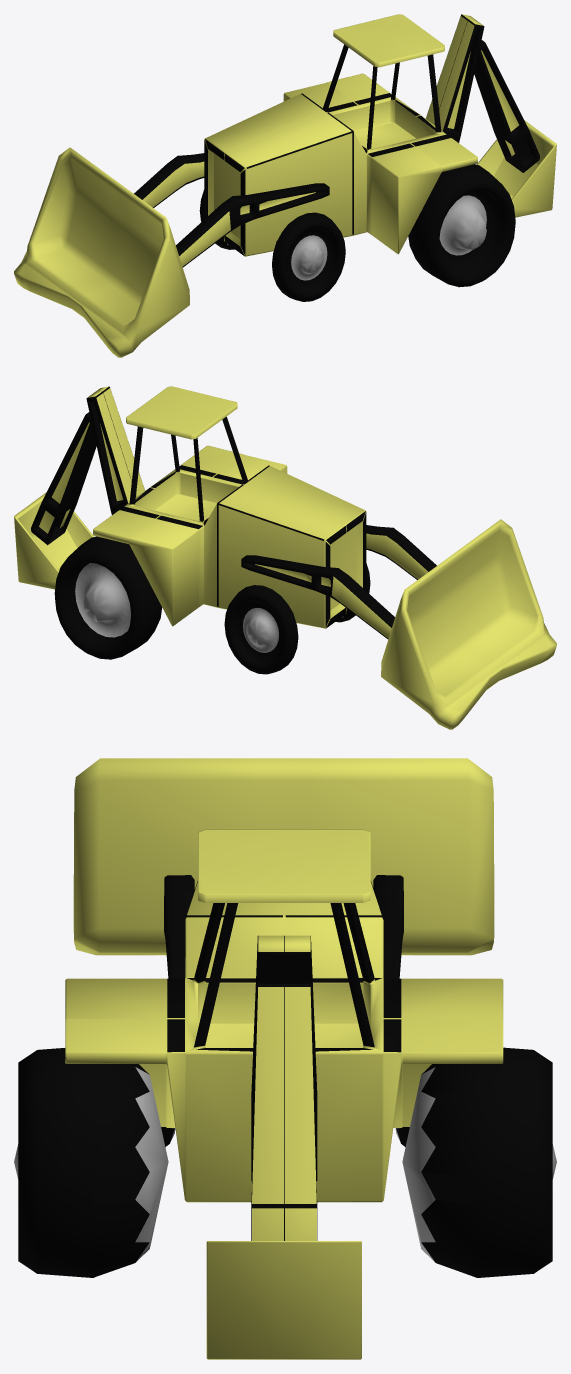
File: Tractor1.fbx
The picture shows the model from 3 angles, top to bottom: view 1: azimuth 30°, elevation 25°; view 2: azimuth 150°, elevation 25°; view 3: azimuth 270°, elevation 25°; orthographic projection. The views are drawn at different scales.
Parts seen in each view (by area): view 1: tractor:Box16, tractor:pa, tractor:Cylinder53, tractor:Cylinder11; view 2: tractor:Box16, tractor:pa, tractor:Cylinder54, tractor:Cylinder55; view 3: tractor:Box16, tractor:pa, tractor:Cylinder54, tractor:Cylinder53.
Part boxes in pixels (x1,y1,x2,y2): tractor:Box16: (204,14,556,256); tractor:pa: (14,147,329,357); tractor:Cylinder53: (408,164,515,287); tractor:Cylinder11: (272,212,345,301); tractor:Box16: (14,386,366,628); tractor:pa: (241,519,556,729); tractor:Cylinder54: (54,536,161,659); tractor:Cylinder55: (224,585,298,674); tractor:Box16: (65,829,503,1359); tractor:pa: (73,758,494,978); tractor:Cylinder54: (402,1047,556,1277); tractor:Cylinder53: (14,1048,168,1277).
Bounding box in the file's own units: 5.08 × 2.13 × 2.66.
